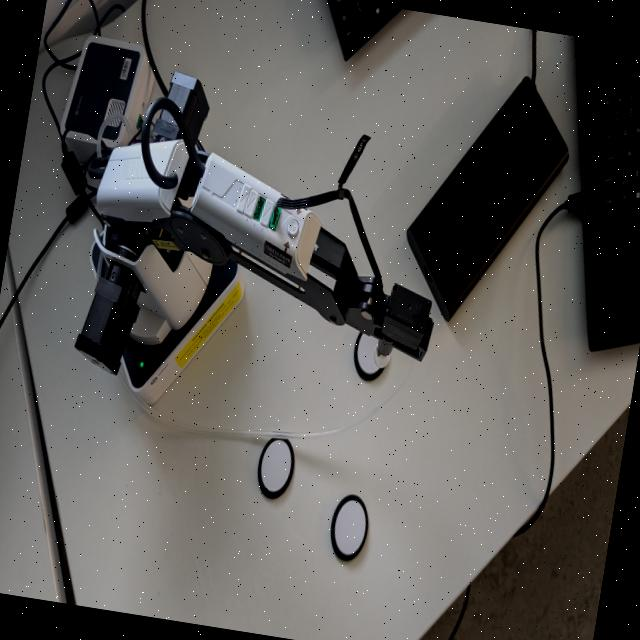Robot-end-effector-HF8z: (364, 280, 443, 384)
